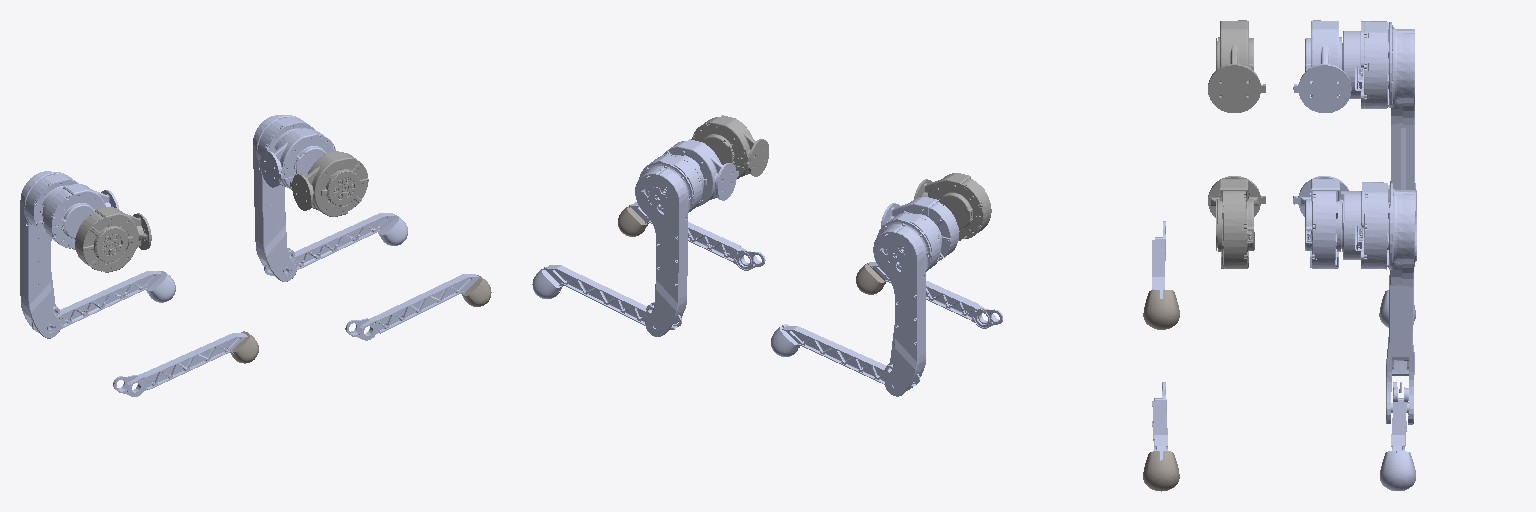
URDF robot description (brook):
<?xml version="1.0" encoding="utf-8"?>
<!-- This URDF was automatically created by SolidWorks to URDF Exporter! Originally created by [author] ([email redacted]) 
     Commit Version: 1.6.0-1-g15f4949  Build Version: 1.6.7594.29634
     For more information, please see http://wiki.ros.org/sw_urdf_exporter -->
<robot
  name="brook">
  <link
    name="base_link">
    <inertial>
      <origin
        xyz="0.01205 -0.0002 0.00276"
        rpy="0 0 0" />
      <mass
        value="3.8835" />
      <inertia
        ixx="0.01877"
        ixy="0.0001"
        ixz="0.00157"
        iyy="0.05795"
        iyz="0"
        izz="0.06374" />
    </inertial>
    <visual>
      <origin
        xyz="0 0 0"
        rpy="0 0 0" />
      <geometry>
        <mesh
          filename="../meshes/base_link.STL" />
      </geometry>
      <material
        name="">
        <color
          rgba="0.79216 0.81961 0.93333 1" />
      </material>
    </visual>
   
     <!-- 机身 -->
    <collision>
		<origin
		xyz="0 0 0.010"
		rpy="0 0 0" />
		<geometry>
			<box size="0.28 0.20 0.1"/>
		</geometry>
	  </collision>
    <!-- 雷达 -->
    <collision>
		<origin
		xyz="0.08 0 0.1"
		rpy="0 0 0" />
		<geometry>
			<box size="0.08 0.08 0.06"/>
		</geometry>
	  </collision>
    <!-- 相机 -->
    <collision>
		<origin
		xyz="0.27 0 0.03"
		rpy="0 0 0" />
		<geometry>
			<box size="0.02 0.05 0.08"/>
		</geometry>
	  </collision>


  </link>
  <link
    name="FL_hip">
    <inertial>
      <origin
        xyz="0.2035060 0.0508807 -0.0008245"
        rpy="0 0 0" />
      <mass
        value="0.6721913" />
      <inertia
        ixx="0.0004511"
        ixy="0.0000028"
        ixz="-0.0000006"
        iyy="0.0009348"
        iyz="0.0000041"
        izz="0.0006065" />
    </inertial>
    <visual>
      <origin
        xyz="0 0 0"
        rpy="0 0 0" />
      <geometry>
        <mesh
          filename="../meshes/FL_hip.STL" />
      </geometry>
      <material
        name="">
        <color
          rgba="0.79216 0.81961 0.93333 1" />
      </material>
    </visual>
    <!-- <collision>
      <origin
        xyz="0 0 0"
        rpy="0 0 0" />
      <geometry>
        <mesh
          filename="package://brook/meshes/FL_hip.STL" />
      </geometry>
    </collision> -->
  </link>
  <joint
    name="FL_hip_joint"
    type="revolute">
    <origin
      xyz="0.2111 0.05 -0.00089182"
      rpy="0 0 0" />
    <parent
      link="base_link" />
    <child
      link="FL_hip" />
    <axis
      xyz="1 0 0" />
    <limit
      lower="-1.0472"
      upper="1.0472"
      effort="23.7"
      velocity="30.1" />
  </joint>
  <link
    name="FL_thigh">
    <inertial>
      <origin
        xyz="0.2093371 0.1181378 -0.0376092"
        rpy="0 0 0" />
      <mass
        value="1.2403144" />
      <inertia
        ixx="0.0068975"
        ixy="-0.0000336"
        ixz="0.0001325"
        iyy="0.0069772"
        iyz="-0.0007060"
        izz="0.0010573" />
    </inertial>
    <visual>
      <origin
        xyz="0 0 0"
        rpy="0 0 0" />
      <geometry>
        <mesh
          filename="../meshes/FL_thigh.STL" />
      </geometry>
      <material
        name="">
        <color
          rgba="0.79216 0.81961 0.93333 1" />
      </material>
    </visual>
    <collision>
			<origin
			xyz="0 0 -0.003"
			rpy="1.57 0 0" />
			<geometry>
				<cylinder length="0.045" radius="0.037"/>
			</geometry>
		</collision>
  </link>
  <joint
    name="FL_thigh_joint"
    type="revolute">
    <origin
      xyz="0 0.079741 -0.0011827"
      rpy="0 0 0" />
    <parent
      link="FL_hip" />
    <child
      link="FL_thigh" />
    <axis
      xyz="0 1 0" />
    <limit
      lower="-0.5236"
      upper="4.5379"
      effort="23.7"
      velocity="30.1" />
  </joint>
  <link
    name="FL_calf">
    <inertial>
      <origin
        xyz="0.2153871 0.1322015 -0.3048490"
        rpy="0 0 0" />
      <mass
        value="0.0429" />
      <inertia
        ixx="0.0004402"
        ixy="-0.0000002"
        ixz="0.0000024"
        iyy="0.0004460"
        iyz="0.0000018"
        izz="0.0000077" />
    </inertial>
    <visual>
      <origin
        xyz="0 0 0"
        rpy="0 0 0" />
      <geometry>
        <mesh
          filename="../meshes/FL_calf.STL" />
      </geometry>
      <material
        name="">
        <color
          rgba="0.79216 0.81961 0.93333 1" />
      </material>
    </visual>
    <collision>
			<origin rpy="0 -0.01 0" xyz="0 0 -0.073"/>
			<geometry>
				<box size="0.028 0.016 0.2"/>
			</geometry>
		</collision>

  </link>
  <joint
    name="FL_calf_joint"
    type="revolute">
    <origin
      xyz="0.0042038 -0.0016623 -0.21996"
      rpy="0 0 0" />
    <parent
      link="FL_thigh" />
    <child
      link="FL_calf" />
    <axis
      xyz="0 1 0" />
    <limit
      lower="-2.7227"
      upper="-0.83776"
      effort="35.55"
      velocity="20.07" />
  </joint>
  <link
    name="FL_foot">
    <inertial>
      <origin
        xyz="0.1894928 0.1310010 -0.4228874"
        rpy="0 0 0" />
      <mass
        value="0.0500000" />
      <inertia
        ixx="0.0000102"
        ixy="0"
        ixz="-0.0000003"
        iyy="0.0000109"
        iyz="0"
        izz="0.0000098" />
    </inertial>
    <visual>
      <origin
        xyz="0 0 0"
        rpy="0 0 0" />
      <geometry>
        <mesh
          filename="../meshes/FL_foot.STL" />
      </geometry>
      <material
        name="">
        <color
          rgba="0.79216 0.81961 0.93333 1" />
      </material>
    </visual>
    <collision>
      <origin
        xyz="0 0 0.025"
        rpy="0 0 0" />
      <geometry>
        <sphere radius="0.0258"/>
      </geometry>
    </collision>
  </link>
  <joint
    name="FL_foot_joint"
    type="fixed">
    <origin
      xyz="-0.023952 0.0025892 -0.22331"
      rpy="0 0 0" />
    <parent
      link="FL_calf" />
    <child
      link="FL_foot" />
    <axis
      xyz="0 0 0" />
  </joint>
  <link
    name="FR_hip">
    <inertial>
      <origin
        xyz="0.2035060 -0.0508807 -0.0008245"
        rpy="0 0 0" />
      <mass
        value="0.6721913" />
      <inertia
        ixx="0.0004511"
        ixy="-0.0000028"
        ixz="-0.0000006"
        iyy="0.0009348"
        iyz="-0.0000041"
        izz="0.0006065" />
    </inertial>
    <visual>
      <origin
        xyz="0 0 0"
        rpy="0 0 0" />
      <geometry>
        <mesh
          filename="../meshes/FR_hip.STL" />
      </geometry>
      <material
        name="">
        <color
          rgba="0.69804 0.69804 0.69804 1" />
      </material>
    </visual>
    <!-- <collision>
      <origin
        xyz="0 0 0"
        rpy="0 0 0" />
      <geometry>
        <mesh
          filename="package://brook/meshes/FR_hip.STL" />
      </geometry>
    </collision> -->
  </link>
  <joint
    name="FR_hip_joint"
    type="revolute">
    <origin
      xyz="0.2111 -0.05 -0.00089182"
      rpy="0 0 0" />
    <parent
      link="base_link" />
    <child
      link="FR_hip" />
    <axis
      xyz="1 0 0" />
    <limit
      lower="-1.0472"
      upper="1.0472"
      effort="23.7"
      velocity="30.1" />
  </joint>
  <link
    name="FR_thigh">
    <inertial>
      <origin
        xyz="0.2093371 -0.1181378 -0.0376092"
        rpy="0 0 0" />
      <mass
        value="1.2403144" />
      <inertia
        ixx="0.0068975"
        ixy="0.0000336"
        ixz="0.0001325"
        iyy="0.0069772"
        iyz="0.0007060"
        izz="0.0010573" />
    </inertial>
    <visual>
      <origin
        xyz="0 0 0"
        rpy="0 0 0" />
      <geometry>
        <mesh
          filename="../meshes/FR_thigh.STL" />
      </geometry>
      <material
        name="">
        <color
          rgba="0.898039215686275 0.917647058823529 0.929411764705882 1" />
      </material>
    </visual>
    <collision>
			<origin
			xyz="0 0 -0.003"
			rpy="1.57 0 0" />
			<geometry>
				<cylinder length="0.045" radius="0.037"/>
			</geometry>
		</collision>
  </link>
  <joint
    name="FR_thigh_joint"
    type="revolute">
    <origin
      xyz="0 -0.079741 -0.0011827"
      rpy="0 0 0" />
    <parent
      link="FR_hip" />
    <child
      link="FR_thigh" />
    <axis
      xyz="0 1 0" />
    <limit
      lower="-0.5236"
      upper="4.5379"
      effort="23.7"
      velocity="30.1" />
  </joint>
  <link
    name="FR_calf">
    <inertial>
      <origin
        xyz="0.2153871 -0.1322015 -0.3048490"
        rpy="0 0 0" />
      <mass
        value="0.0429" />
      <inertia
        ixx="0.0004402"
        ixy="0.0000002"
        ixz="0.0000024"
        iyy="0.0004460"
        iyz="-0.0000018"
        izz="0.0000077" />
    </inertial>
    <visual>
      <origin
        xyz="0 0 0"
        rpy="0 0 0" />
      <geometry>
        <mesh
          filename="../meshes/FR_calf.STL" />
      </geometry>
      <material
        name="">
        <color
          rgba="0.792156862745098 0.819607843137255 0.933333333333333 1" />
      </material>
    </visual>
    <collision>
			<origin rpy="0 -0.01 0" xyz="0 0 -0.073"/>
			<geometry>
				<box size="0.028 0.016 0.2"/>
			</geometry>
		</collision>
  </link>
  <joint
    name="FR_calf_joint"
    type="revolute">
    <origin
      xyz="0.0042038 0.0016623 -0.21996"
      rpy="0 0 0" />
    <parent
      link="FR_thigh" />
    <child
      link="FR_calf" />
    <axis
      xyz="0 1 0" />
    <limit
      lower="-2.7227"
      upper="-0.83776"
      effort="35.55"
      velocity="20.07" />
  </joint>
  <link
    name="FR_foot">
    <inertial>
      <origin
        xyz="0.1894928 -0.1310010 -0.4228874"
        rpy="0 0 0" />
      <mass
        value="0.0500000" />
      <inertia
        ixx="0.0000102"
        ixy="0"
        ixz="-0.0000003"
        iyy="0.0000109"
        iyz="0"
        izz="0.0000098" />
    </inertial>
    <visual>
      <origin
        xyz="0 0 0"
        rpy="0 0 0" />
      <geometry>
        <mesh
          filename="../meshes/FR_foot.STL" />
      </geometry>
      <material
        name="">
        <color
          rgba="0.686274509803922 0.658823529411765 0.63921568627451 1" />
      </material>
    </visual>
    <collision>
      <origin
        xyz="0 0 0.025"
        rpy="0 0 0" />
      <geometry>
        <sphere radius="0.0258"/>
      </geometry>
    </collision>
  </link>
  <joint
    name="FR_foot_joint"
    type="fixed">
    <origin
      xyz="-0.023952 -0.0025892 -0.22331"
      rpy="0 0 0" />
    <parent
      link="FR_calf" />
    <child
      link="FR_foot" />
    <axis
      xyz="0 0 0" />
  </joint>
  <link
    name="RL_hip">
    <inertial>
      <origin
        xyz="-0.2035060 0.0508807 -0.0008245"
        rpy="0 0 0" />
      <mass
        value="0.6721913" />
      <inertia
        ixx="0.0004511"
        ixy="-0.0000028"
        ixz="0.0000006"
        iyy="0.0009348"
        iyz="0.0000041"
        izz="0.0006065" />
    </inertial>
    <visual>
      <origin
        xyz="0 0 0"
        rpy="0 0 0" />
      <geometry>
        <mesh
          filename="../meshes/RL_hip.STL" />
      </geometry>
      <material
        name="">
        <color
          rgba="0.79216 0.81961 0.93333 1" />
      </material>
    </visual>
    <!-- <collision>
      <origin
        xyz="0 0 0"
        rpy="0 0 0" />
      <geometry>
        <mesh
          filename="package://brook/meshes/RL_hip.STL" />
      </geometry>
    </collision> -->
  </link>
  <joint
    name="RL_hip_joint"
    type="revolute">
    <origin
      xyz="-0.2111 0.05 -0.00089182"
      rpy="0 0 0" />
    <parent
      link="base_link" />
    <child
      link="RL_hip" />
    <axis
      xyz="1 0 0" />
    <limit
      lower="-1.0472"
      upper="1.0472"
      effort="23.7"
      velocity="30.1" />
  </joint>
  <link
    name="RL_thigh">
    <inertial>
      <origin
        xyz="-0.2093371 0.1181378 -0.0376092"
        rpy="0 0 0" />
      <mass
        value="1.2403144" />
      <inertia
        ixx="0.0068975"
        ixy="0.0000336"
        ixz="-0.0001325"
        iyy="0.0069772"
        iyz="-0.0007060"
        izz="0.0010573" />
    </inertial>
    <visual>
      <origin
        xyz="0 0 0"
        rpy="0 0 0" />
      <geometry>
        <mesh
          filename="../meshes/RL_thigh.STL" />
      </geometry>
      <material
        name="">
        <color
          rgba="0.792156862745098 0.819607843137255 0.933333333333333 1" />
      </material>
    </visual>
    <collision>
			<origin
			xyz="0 0 -0.003"
			rpy="1.57 0 0" />
			<geometry>
				<cylinder length="0.045" radius="0.037"/>
			</geometry>
		</collision>
  </link>
  <joint
    name="RL_thigh_joint"
    type="revolute">
    <origin
      xyz="0 0.079741 -0.0011827"
      rpy="0 0 0" />
    <parent
      link="RL_hip" />
    <child
      link="RL_thigh" />
    <axis
      xyz="0 1 0" />
    <limit
      lower="-0.5236"
      upper="4.5379"
      effort="23.7"
      velocity="30.1" />
  </joint>
  <link
    name="RL_calf">
    <inertial>
      <origin
        xyz="-0.2153871 0.1322015 -0.3048490"
        rpy="0 0 0" />
      <mass
        value="0.0429" />
      <inertia
        ixx="0.0004402"
        ixy="0.0000002"
        ixz="-0.0000024"
        iyy="0.0004460"
        iyz="0.0000018"
        izz="0.0000077" />
    </inertial>
    <visual>
      <origin
        xyz="0 0 0"
        rpy="0 0 0" />
      <geometry>
        <mesh
          filename="../meshes/RL_calf.STL" />
      </geometry>
      <material
        name="">
        <color
          rgba="0.792156862745098 0.819607843137255 0.933333333333333 1" />
      </material>
    </visual>
    <collision>
			<origin rpy="0 -0.01 0" xyz="0 0 -0.073"/>
			<geometry>
				<box size="0.028 0.016 0.2"/>
			</geometry>
		</collision>
  </link>
  <joint
    name="RL_calf_joint"
    type="revolute">
    <origin
      xyz="0.0042038 -0.0016623 -0.21996"
      rpy="0 0 0" />
    <parent
      link="RL_thigh" />
    <child
      link="RL_calf" />
    <axis
      xyz="0 1 0" />
    <limit
      lower="-2.7227"
      upper="-0.83776"
      effort="35.55"
      velocity="20.07" />
  </joint>
  <link
    name="RL_foot">
    <inertial>
      <origin
        xyz="-0.1894928 0.1310010 -0.4228874"
        rpy="0 0 0" />
      <mass
        value="0.0500000" />
      <inertia
        ixx="0.0000102"
        ixy="0"
        ixz="0.0000003"
        iyy="0.0000109"
        iyz="0"
        izz="0.0000098" />
    </inertial>
    <visual>
      <origin
        xyz="0 0 0"
        rpy="0 0 0" />
      <geometry>
        <mesh
          filename="../meshes/RL_foot.STL" />
      </geometry>
      <material
        name="">
        <color
          rgba="0.792156862745098 0.819607843137255 0.933333333333333 1" />
      </material>
    </visual>
    <collision>
      <origin
        xyz="0 0 0.025"
        rpy="0 0 0" />
      <geometry>
        <sphere radius="0.0258"/>
      </geometry>
    </collision>
  </link>
  <joint
    name="RL_foot_joint"
    type="fixed">
    <origin
      xyz="-0.023952 0.0025892 -0.22331"
      rpy="0 0 0" />
    <parent
      link="RL_calf" />
    <child
      link="RL_foot" />
    <axis
      xyz="0 0 0" />
  </joint>
  <link
    name="RR_hip">
     <inertial>
      <origin
        xyz="-0.2035060 -0.0508807 -0.0008245"
        rpy="0 0 0" />
      <mass
        value="0.6721913" />
      <inertia
        ixx="0.0004511"
        ixy="0.0000028"
        ixz="0.0000006"
        iyy="0.0009348"
        iyz="-0.0000041"
        izz="0.0006065" />
    </inertial>
    <visual>
      <origin
        xyz="0 0 0"
        rpy="0 0 0" />
      <geometry>
        <mesh
          filename="../meshes/RR_hip.STL" />
      </geometry>
      <material
        name="">
        <color
          rgba="0.69804 0.69804 0.69804 1" />
      </material>
    </visual>
    <!-- <collision>
      <origin
        xyz="0 0 0"
        rpy="0 0 0" />
      <geometry>
        <mesh
          filename="package://brook/meshes/RR_hip.STL" />
      </geometry>
    </collision> -->
  </link>
  <joint
    name="RR_hip_joint"
    type="revolute">
    <origin
      xyz="-0.2111 -0.05 -0.00089182"
      rpy="0 0 0" />
    <parent
      link="base_link" />
    <child
      link="RR_hip" />
    <axis
      xyz="1 0 0" />
    <limit
      lower="-1.0472"
      upper="1.0472"
      effort="23.7"
      velocity="30.1" />
  </joint>
  <link
    name="RR_thigh">
    <inertial>
      <origin
        xyz="-0.2093371 -0.1181378 -0.0376092"
        rpy="0 0 0" />
      <mass
        value="1.2403144" />
      <inertia
        ixx="0.0068975"
        ixy="-0.0000336"
        ixz="-0.0001325"
        iyy="0.0069772"
        iyz="0.0007060"
        izz="0.0010573" />
    </inertial>
    <visual>
      <origin
        xyz="0 0 0"
        rpy="0 0 0" />
      <geometry>
        <mesh
          filename="../meshes/RR_thigh.STL" />
      </geometry>
      <material
        name="">
        <color
          rgba="0.650980392156863 0.619607843137255 0.588235294117647 1" />
      </material>
    </visual>
    <collision>
			<origin
			xyz="0 0 -0.003"
			rpy="1.57 0 0" />
			<geometry>
				<cylinder length="0.045" radius="0.037"/>
			</geometry>
		</collision>
  </link>
  <joint
    name="RR_thigh_joint"
    type="revolute">
    <origin
      xyz="0 -0.079741 -0.0011827"
      rpy="0 0 0" />
    <parent
      link="RR_hip" />
    <child
      link="RR_thigh" />
    <axis
      xyz="0 1 0" />
    <limit
      lower="-0.5236"
      upper="4.5379"
      effort="23.7"
      velocity="30.1" />
  </joint>
  <link
    name="RR_calf">
    <inertial>
      <origin
        xyz="-0.2153871 -0.1322015 -0.3048490"
        rpy="0 0 0" />
      <mass
        value="0.0429" />
      <inertia
        ixx="0.0004402"
        ixy="-0.0000002"
        ixz="-0.0000024"
        iyy="0.0004460"
        iyz="-0.0000018"
        izz="0.0000077" />
    </inertial>
    <visual>
      <origin
        xyz="0 0 0"
        rpy="0 0 0" />
      <geometry>
        <mesh
          filename="../meshes/RR_calf.STL" />
      </geometry>
      <material
        name="">
        <color
          rgba="0.792156862745098 0.819607843137255 0.933333333333333 1" />
      </material>
    </visual>
    <collision>
			<origin rpy="0 -0.01 0" xyz="0 0 -0.073"/>
			<geometry>
				<box size="0.028 0.016 0.2"/>
			</geometry>
		</collision>
  </link>
  <joint
    name="RR_calf_joint"
    type="revolute">
    <origin
      xyz="0.0042038 0.0016623 -0.21996"
      rpy="0 0 0" />
    <parent
      link="RR_thigh" />
    <child
      link="RR_calf" />
    <axis
      xyz="0 1 0" />
    <limit
      lower="-2.7227"
      upper="-0.83776"
      effort="35.55"
      velocity="20.07" />
  </joint>
  <link
    name="RR_foot">
    <inertial>
      <origin
        xyz="-0.1894928 -0.1310010 -0.4228874"
        rpy="0 0 0" />
      <mass
        value="0.0500000" />
      <inertia
        ixx="0.0000102"
        ixy="0"
        ixz="0.0000003"
        iyy="0.0000109"
        iyz="0"
        izz="0.0000098" />
    </inertial>
    <visual>
      <origin
        xyz="0 0 0"
        rpy="0 0 0" />
      <geometry>
        <mesh
          filename="../meshes/RR_foot.STL" />
      </geometry>
      <material
        name="">
        <color
          rgba="0.686274509803922 0.658823529411765 0.63921568627451 1" />
      </material>
    </visual>
    <collision>
      <origin
        xyz="0 0 0.025"
        rpy="0 0 0" />
      <geometry>
        <sphere radius="0.0258"/>
      </geometry>
    </collision>
  </link>
  <joint
    name="RR_foot_joint"
    type="fixed">
    <origin
      xyz="-0.023952 -0.0025892 -0.22331"
      rpy="0 0 0" />
    <parent
      link="RR_calf" />
    <child
      link="RR_foot" />
    <axis
      xyz="0 0 0" />
  </joint>
</robot>

--- What the picture shows (computed from the rendered views, not written in the file) ---
3 views of the same robot in one strip: view 1: azimuth 30°, elevation 25°; view 2: azimuth 150°, elevation 25°; view 3: azimuth 270°, elevation 25° (orthographic).
Model brook with 17 links and 16 joints (12 revolute, 4 fixed), rooted at base_link, posed all joints at 0 but 4 set to mid-range because 0 is outside their limits (FL_calf_joint = -1.78, FR_calf_joint = -1.78, RL_calf_joint = -1.78, RR_calf_joint = -1.78).
Links seen in each view (by area): view 1: RL_thigh, FL_thigh, RR_hip, FR_hip, FL_hip, RL_hip, FR_calf, RR_calf, FL_calf, RL_calf, RL_foot, FR_foot (+2 smaller); view 2: RL_thigh, FL_thigh, FR_hip, RR_hip, FL_hip, FL_calf, RL_calf, RL_hip, FR_calf, RR_calf, RR_foot, FR_foot (+2 smaller); view 3: FL_thigh, RL_thigh, FR_hip, RR_hip, RL_hip, FL_hip, FL_foot, FR_foot, RR_foot, FR_calf, RR_calf, FL_calf.
Link boxes in pixels (left/top/right/bottom): RL_thigh: left=20, top=171, right=77, bottom=338; FL_thigh: left=253, top=115, right=314, bottom=281; RR_hip: left=75, top=207, right=151, bottom=272; FR_hip: left=290, top=151, right=368, bottom=216; FL_hip: left=260, top=128, right=335, bottom=189; RL_hip: left=43, top=183, right=118, bottom=249; FR_calf: left=345, top=274, right=480, bottom=340; RR_calf: left=113, top=333, right=247, bottom=396; FL_calf: left=264, top=213, right=397, bottom=275; RL_calf: left=32, top=271, right=162, bottom=331; RL_foot: left=146, top=271, right=175, bottom=302; FR_foot: left=461, top=275, right=491, bottom=306; RL_thigh: left=873, top=212, right=941, bottom=396; FL_thigh: left=635, top=154, right=703, bottom=336; FR_hip: left=691, top=115, right=768, bottom=178; RR_hip: left=914, top=173, right=991, bottom=240; FL_hip: left=663, top=139, right=738, bottom=206; FL_calf: left=543, top=265, right=681, bottom=329; RL_calf: left=782, top=326, right=919, bottom=387; RL_hip: left=881, top=196, right=958, bottom=260; FR_calf: left=629, top=202, right=765, bottom=270; RR_calf: left=869, top=262, right=1002, bottom=328; RR_foot: left=856, top=262, right=885, bottom=294; FR_foot: left=618, top=204, right=648, bottom=236; FL_thigh: left=1340, top=182, right=1415, bottom=424; RL_thigh: left=1343, top=21, right=1416, bottom=261; FR_hip: left=1208, top=176, right=1265, bottom=268; RR_hip: left=1208, top=20, right=1265, bottom=112; RL_hip: left=1293, top=20, right=1351, bottom=112; FL_hip: left=1293, top=176, right=1348, bottom=268; FL_foot: left=1380, top=451, right=1415, bottom=490; FR_foot: left=1143, top=451, right=1179, bottom=491; RR_foot: left=1143, top=290, right=1179, bottom=329; FR_calf: left=1152, top=382, right=1167, bottom=460; RR_calf: left=1152, top=221, right=1165, bottom=298; FL_calf: left=1391, top=382, right=1406, bottom=459.
Bounding box of the posed robot: 0.699 × 0.3032 × 0.2894 m (x, y, z).
14 mesh visuals loaded from 17 distinct referenced files (14 binary STL); not drawn: 3 (reference not matched to a file when rendering).
